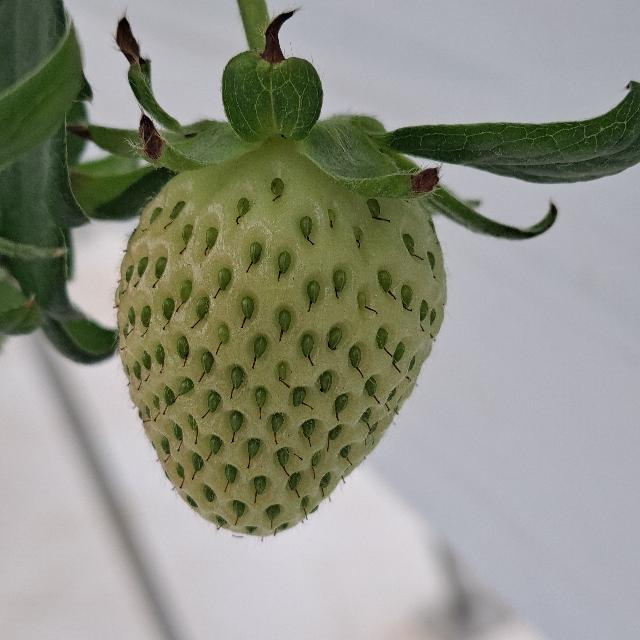Health_25: (114, 140, 446, 536)
